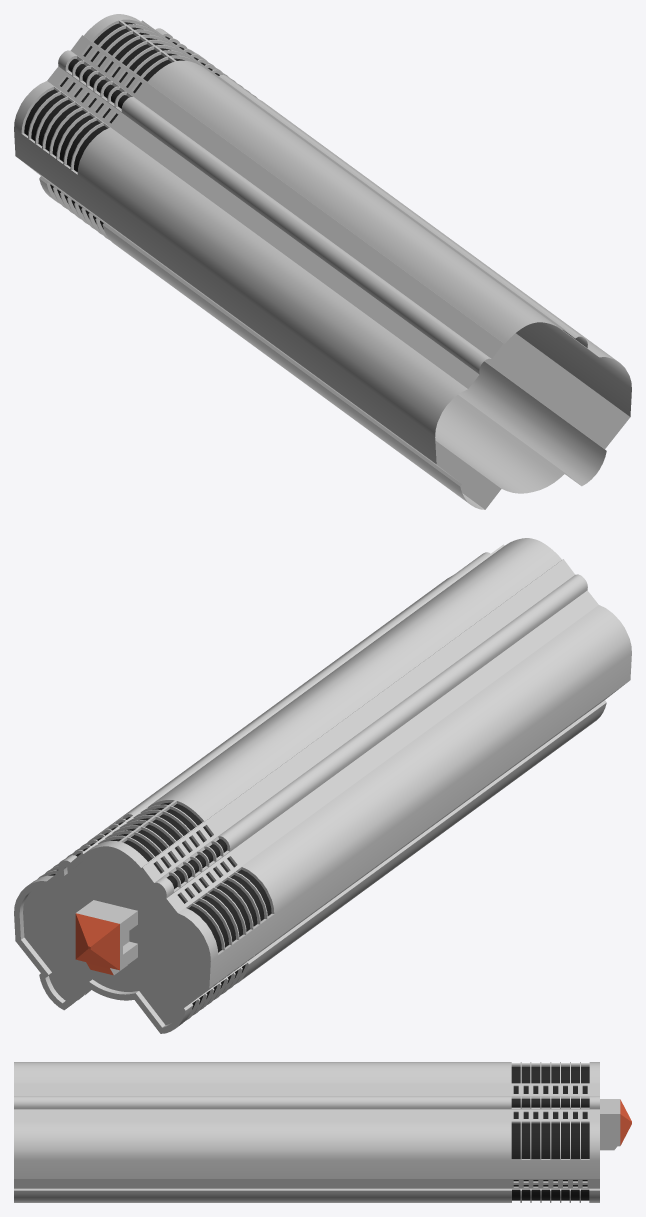
File: Tower.fbx
3 renders of one model, top to bottom at view 1: azimuth 30°, elevation 25°; view 2: azimuth 150°, elevation 25°; view 3: azimuth 270°, elevation 25°, orthographic. The views are drawn at different scales.
Visible parts, largest first — view 1: Cube.001; view 2: Cube.001; view 3: Cube.001.
Boxes of the visible parts, box(x1,y1,x2,y2) form: Cube.001: box(14, 14, 631, 509); Cube.001: box(14, 538, 631, 1033); Cube.001: box(14, 1062, 631, 1202).
Size of the model in its own units: 38.34 by 32.57 by 150.
